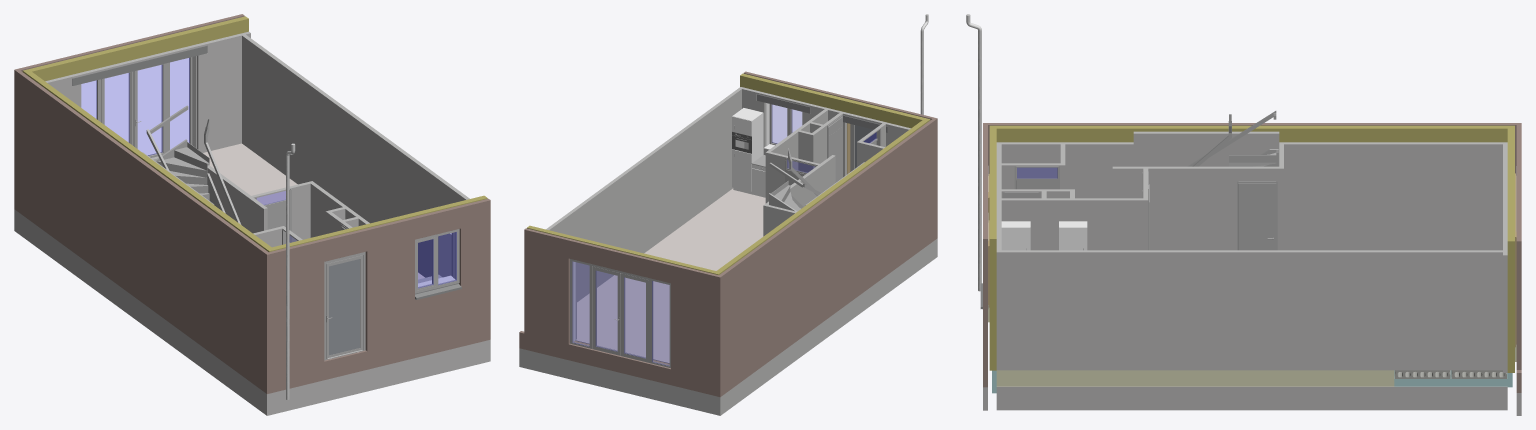
The picture shows the model from 3 angles, left to right: view 1: azimuth 30°, elevation 25°; view 2: azimuth 150°, elevation 25°; view 3: azimuth 270°, elevation 25°; orthographic projection. The views are drawn at different scales.
Parts seen in each view (by area): view 1: 332240221_metselwerk_oranje_100, 332240121_metselwerk_oranje_100, 332239521_kalkzandsteen_100, 332433321_metselwerk_oranje_100, 332428421_kalkzandsteen_100, 332254521_kalkzandsteen_100, 332255321_kalkzandsteen_100, 332255021_kalkzandsteen_100, 332255621_metselwerk_oranje_100, 332255721_metselwerk_oranje_100, 3324305buitendraaiend_alcoa, 332428621_isolatie_mineraal_150 (+25 smaller); view 2: 332240221_metselwerk_oranje_100, 332239521_kalkzandsteen_100, 332428721_metselwerk_oranje_100, 332449943_zandcementvloer_70, 332433321_metselwerk_oranje_100, 332433921_kalkzandsteen_100, 332433821_metselwerk_oranje_100, 3324305buitendraaiend_alcoa, 332255021_kalkzandsteen_100, 332434543_zandcementvloer_70, 332255721_metselwerk_oranje_100, 332239921_isolatie_mineraal_150 (+27 smaller); view 3: 332239521_kalkzandsteen_100, 332239721_kalkzandsteen_100, 332254521_kalkzandsteen_100, 332433521_kalkzandsteen_100, 332453922_kalkzandsteen_100, 332255121_kalkzandsteen_100, 333394723_kanaalplaatvloer_260, 332454122_kalkzandsteen_100, 332240021_isolatie_mineraal_150, 332436221_kalkzandsteen_100, 3324548opdek, 332433421_isolatie_mineraal_150 (+18 smaller).
Part boxes in pixels (left/top/right/bottom): 332240221_metselwerk_oranje_100: left=69, top=109, right=268, bottom=373; 332240121_metselwerk_oranje_100: left=265, top=198, right=490, bottom=375; 332239521_kalkzandsteen_100: left=295, top=73, right=469, bottom=277; 332433321_metselwerk_oranje_100: left=16, top=70, right=73, bottom=230; 332428421_kalkzandsteen_100: left=45, top=34, right=241, bottom=152; 332254521_kalkzandsteen_100: left=242, top=34, right=298, bottom=181; 332255321_kalkzandsteen_100: left=265, top=339, right=490, bottom=415; 332255021_kalkzandsteen_100: left=69, top=250, right=264, bottom=413; 332255621_metselwerk_oranje_100: left=265, top=321, right=490, bottom=393; 332255721_metselwerk_oranje_100: left=69, top=231, right=264, bottom=392; 3324305buitendraaiend_alcoa: left=105, top=65, right=162, bottom=155; 332428621_isolatie_mineraal_150: left=22, top=18, right=239, bottom=81; 332240221_metselwerk_oranje_100: left=765, top=119, right=935, bottom=345; 332239521_kalkzandsteen_100: left=582, top=88, right=741, bottom=295; 332428721_metselwerk_oranje_100: left=532, top=230, right=722, bottom=381; 332449943_zandcementvloer_70: left=584, top=188, right=765, bottom=318; 332433321_metselwerk_oranje_100: left=719, top=242, right=767, bottom=379; 332433921_kalkzandsteen_100: left=519, top=348, right=722, bottom=415; 332433821_metselwerk_oranje_100: left=519, top=331, right=722, bottom=397; 3324305buitendraaiend_alcoa: left=596, top=271, right=645, bottom=358; 332255021_kalkzandsteen_100: left=768, top=240, right=935, bottom=380; 332434543_zandcementvloer_70: left=575, top=298, right=669, bottom=363; 332255721_metselwerk_oranje_100: left=768, top=224, right=935, bottom=361; 332239921_isolatie_mineraal_150: left=740, top=73, right=930, bottom=128; 332239521_kalkzandsteen_100: left=1001, top=250, right=1389, bottom=370; 332239721_kalkzandsteen_100: left=1001, top=131, right=1389, bottom=250; 332254521_kalkzandsteen_100: left=1389, top=250, right=1502, bottom=370; 332433521_kalkzandsteen_100: left=1389, top=142, right=1502, bottom=250; 332453922_kalkzandsteen_100: left=1112, top=166, right=1283, bottom=250; 332255121_kalkzandsteen_100: left=1001, top=386, right=1389, bottom=410; 333394723_kanaalplaatvloer_260: left=996, top=370, right=1394, bottom=386; 332454122_kalkzandsteen_100: left=1001, top=198, right=1148, bottom=250; 332240021_isolatie_mineraal_150: left=996, top=125, right=1394, bottom=142; 332436221_kalkzandsteen_100: left=1389, top=386, right=1502, bottom=410; 3324548opdek: left=1238, top=183, right=1276, bottom=250; 332433421_isolatie_mineraal_150: left=1394, top=125, right=1507, bottom=142.
Bounding box in the file's own units: 6.08 × 6.75 × 11.74.
